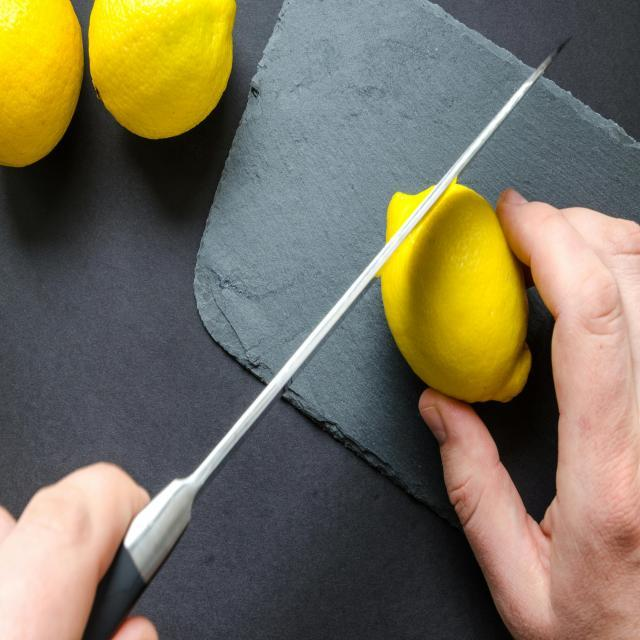Knife: (80, 55, 556, 640)
